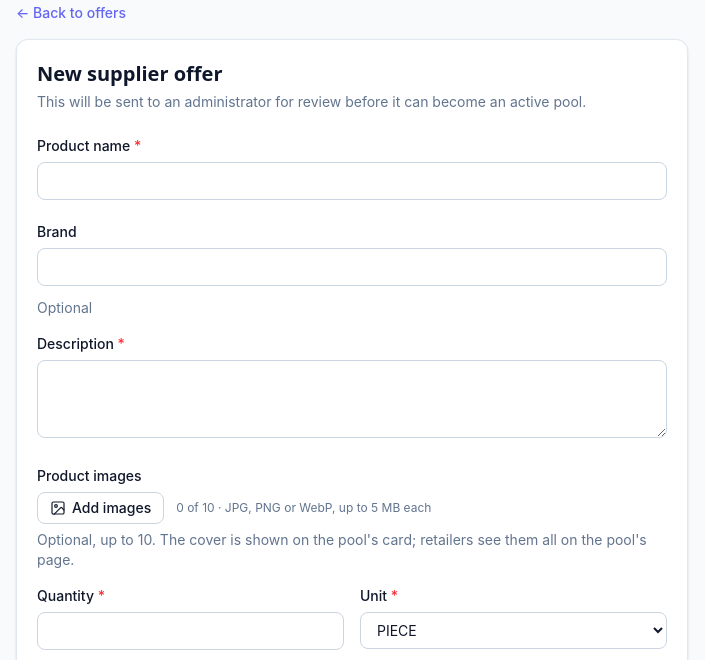
Scenario: CreateOfferPage — whole-offer price › shows what one unit comes to, as a guide
Type "Dates 5kg" into the field labelled "Product name *".
click(352, 181); type("Dates 5kg")  # box [37,162,667,200]
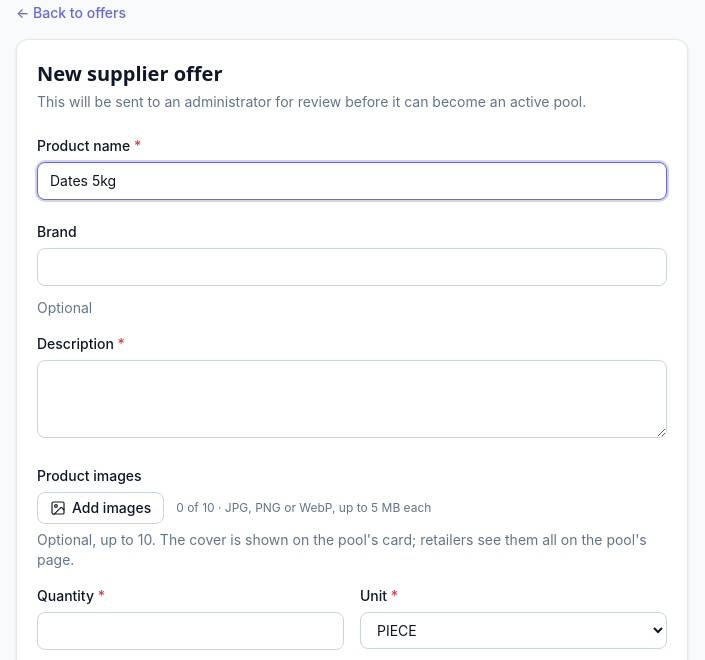
Type "Khalas dates" into the text box labelled "Description *".
click(352, 399); type("Khalas dates")  # box [37,360,667,438]
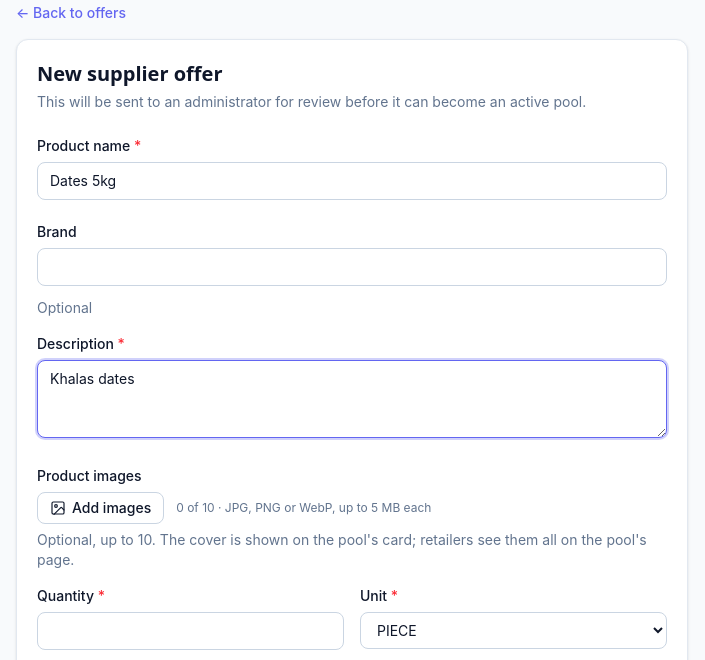
Type "100" into the number field labelled "Quantity *".
click(190, 631); type("100")  # box [37,612,344,650]
(page scrolled)
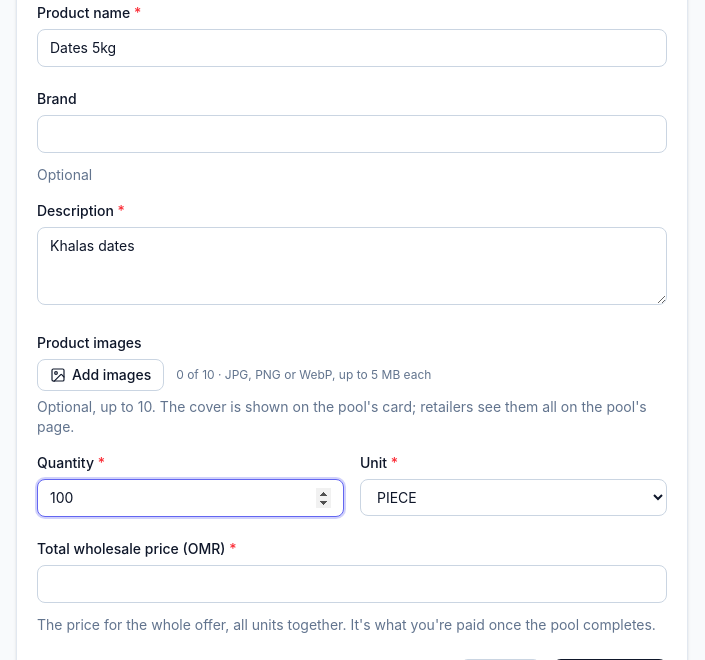
Type "1000" into the number field labelled "Total wholesale price (OMR) *".
click(352, 584); type("1000")  # box [37,565,667,603]
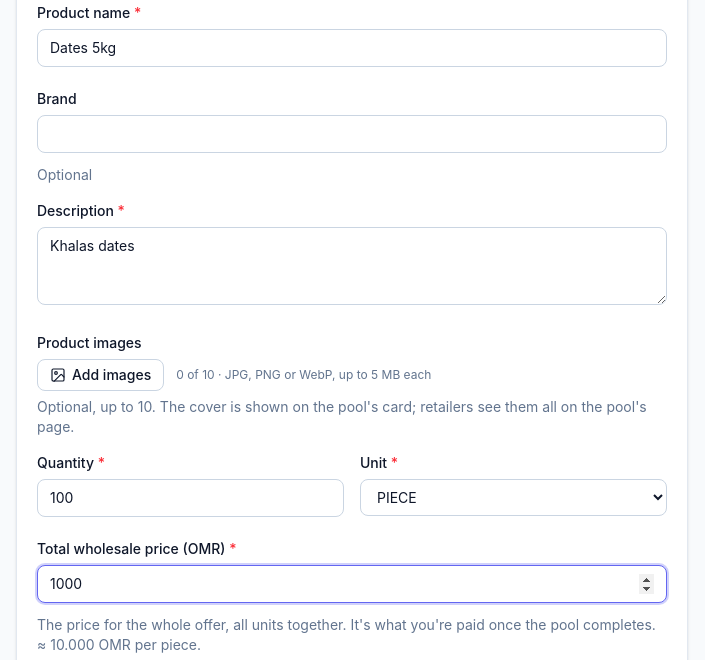
Now the text "≈ 10.000 OMR per piece" is shown, box [37,616,656,653]
